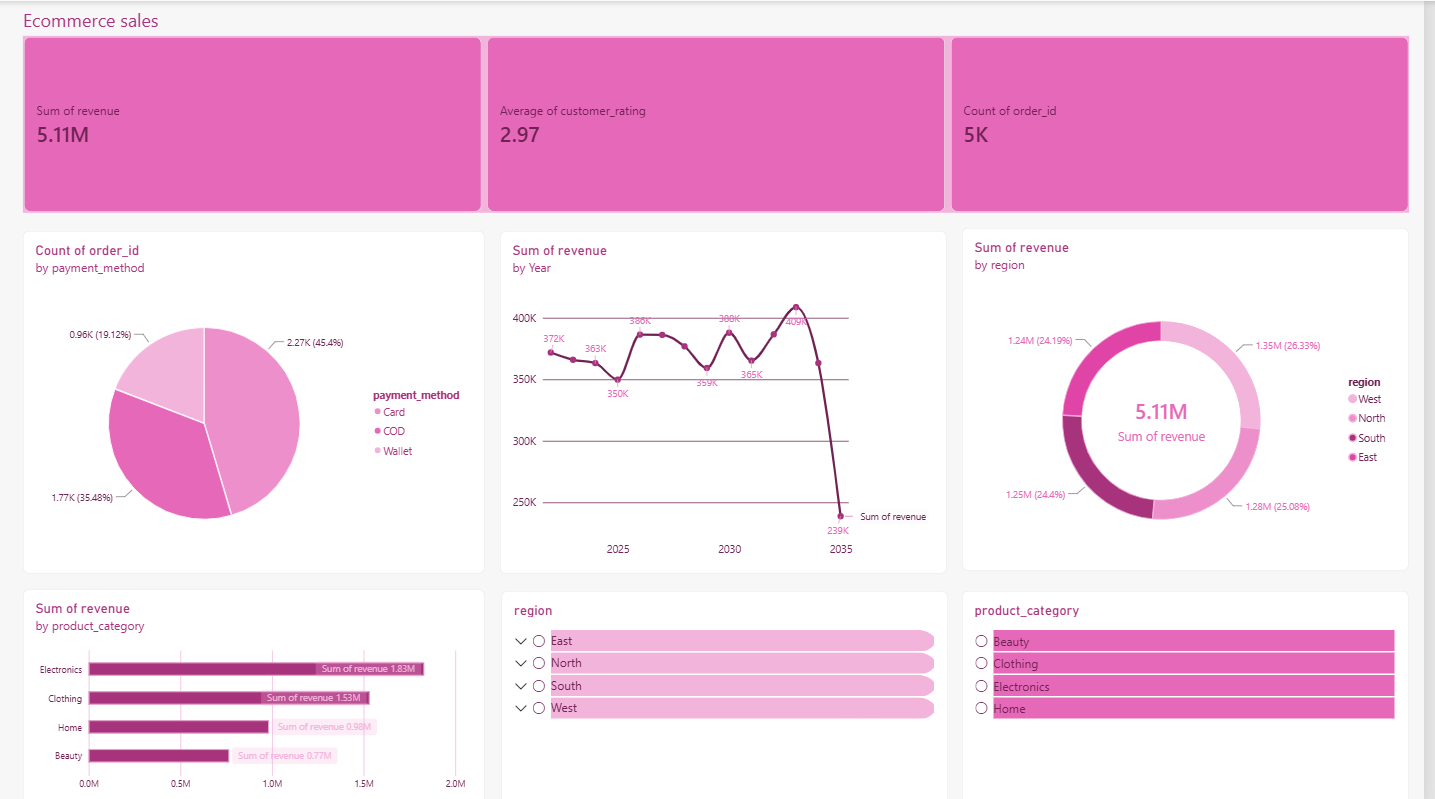

Layout of this report page (visuals, bound fields, positions):
{"tool":"powerbi","page":{"name":"Page 1","canvas":[1920,1080],"ordinal":0},"visuals":[{"type":"cardVisual","fields":{"Data":["Sum(ecommerce_sales_analytics_5000 (1).revenue)","Count(ecommerce_sales_analytics_5000 (1).customer_id)","Avg(ecommerce_sales_analytics_5000 (1).customer_rating)"]},"box":[51,51,1848.2,235.3],"z":0},{"type":"lineChart","fields":{"Category":["ecommerce_sales_analytics_5000 (1).order_date.Variation.Date Hierarchy.Year","ecommerce_sales_analytics_5000 (1).order_date.Variation.Date Hierarchy.Quarter","ecommerce_sales_analytics_5000 (1).order_date.Variation.Date Hierarchy.Month","ecommerce_sales_analytics_5000 (1).order_date.Variation.Date Hierarchy.Day"],"Y":["Sum(ecommerce_sales_analytics_5000 (1).revenue)"]},"box":[688.8,311.8,595.3,456.4],"z":1000},{"type":"pieChart","fields":{"Category":["ecommerce_sales_analytics_5000 (1).payment_method"],"Y":["CountNonNull(ecommerce_sales_analytics_5000 (1).order_id)"]},"box":[51,311.8,615.1,456.4],"z":2000},{"type":"donutChart","fields":{"Category":["ecommerce_sales_analytics_5000 (1).region"],"Y":["Sum(ecommerce_sales_analytics_5000 (1).revenue)"]},"box":[1303.9,309,595.3,456.4],"z":3000},{"type":"clusteredBarChart","fields":{"Category":["ecommerce_sales_analytics_5000 (1).product_category"],"Y":["Sum(ecommerce_sales_analytics_5000 (1).revenue)"]},"box":[51,790.9,615.1,289.1],"z":4000},{"type":"listSlicer","fields":{"Values":["ecommerce_sales_analytics_5000 (1).region","ecommerce_sales_analytics_5000 (1).region"]},"box":[689,791,595,289],"z":5000},{"type":"listSlicer","fields":{"Values":["ecommerce_sales_analytics_5000 (1).product_category"]},"box":[1304,791,595,289],"z":6000}]}

Visuals, with their boxes in screenshot pixels (x1, y1, x2, y2), scaled from the page's 1920x1080 canvas onto the 1435x799 screenshot:
cardVisual - Sum(ecommerce_sales_analytics_5000 (1).revenue) x Count(ecommerce_sales_analytics_5000 (1).customer_id): box(38, 38, 1419, 212)
lineChart - ecommerce_sales_analytics_5000 (1).order_date.Variation.Date Hierarchy.Year x ecommerce_sales_analytics_5000 (1).order_date.Variation.Date Hierarchy.Quarter: box(515, 231, 960, 568)
pieChart - ecommerce_sales_analytics_5000 (1).payment_method x CountNonNull(ecommerce_sales_analytics_5000 (1).order_id): box(38, 231, 498, 568)
donutChart - ecommerce_sales_analytics_5000 (1).region x Sum(ecommerce_sales_analytics_5000 (1).revenue): box(975, 229, 1419, 566)
clusteredBarChart - ecommerce_sales_analytics_5000 (1).product_category x Sum(ecommerce_sales_analytics_5000 (1).revenue): box(38, 585, 498, 798)
listSlicer - ecommerce_sales_analytics_5000 (1).region x ecommerce_sales_analytics_5000 (1).region: box(515, 585, 960, 798)
listSlicer - ecommerce_sales_analytics_5000 (1).product_category: box(975, 585, 1419, 798)
